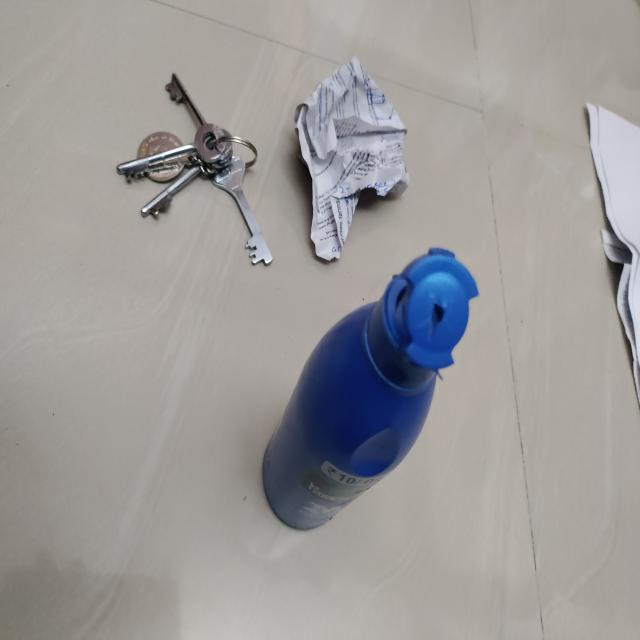metal: (116, 72, 273, 268)
paper: (293, 55, 407, 262), (585, 90, 640, 427)
plastic: (262, 243, 482, 532)
